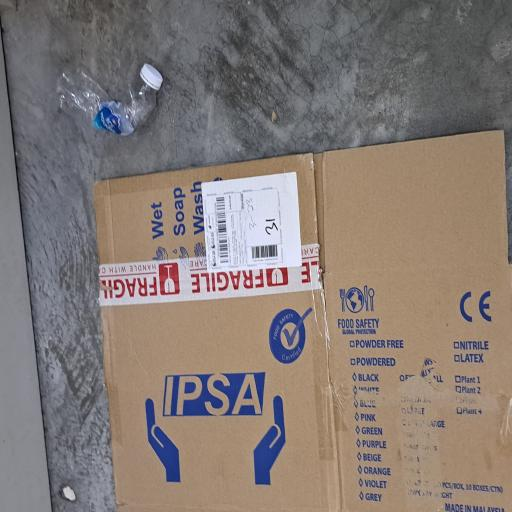cardboard: (0, 124, 289, 512)
plastic bottle: (280, 74, 335, 209)
plastic bottle cap: (317, 186, 337, 217)
